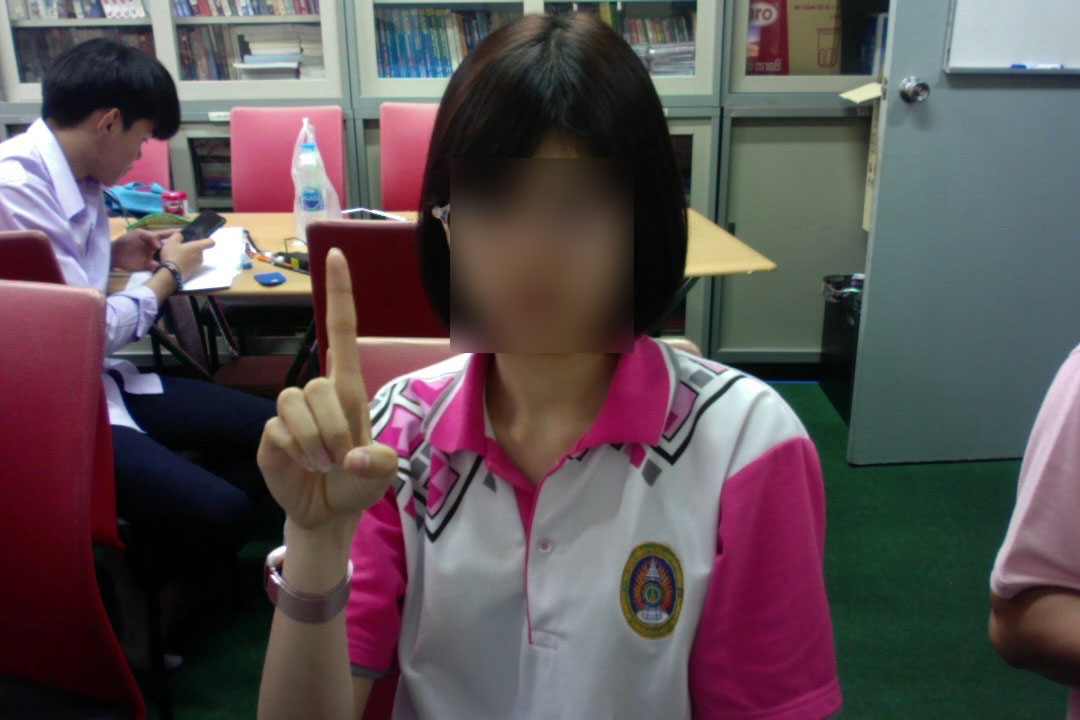dor: (238, 243, 407, 557)
